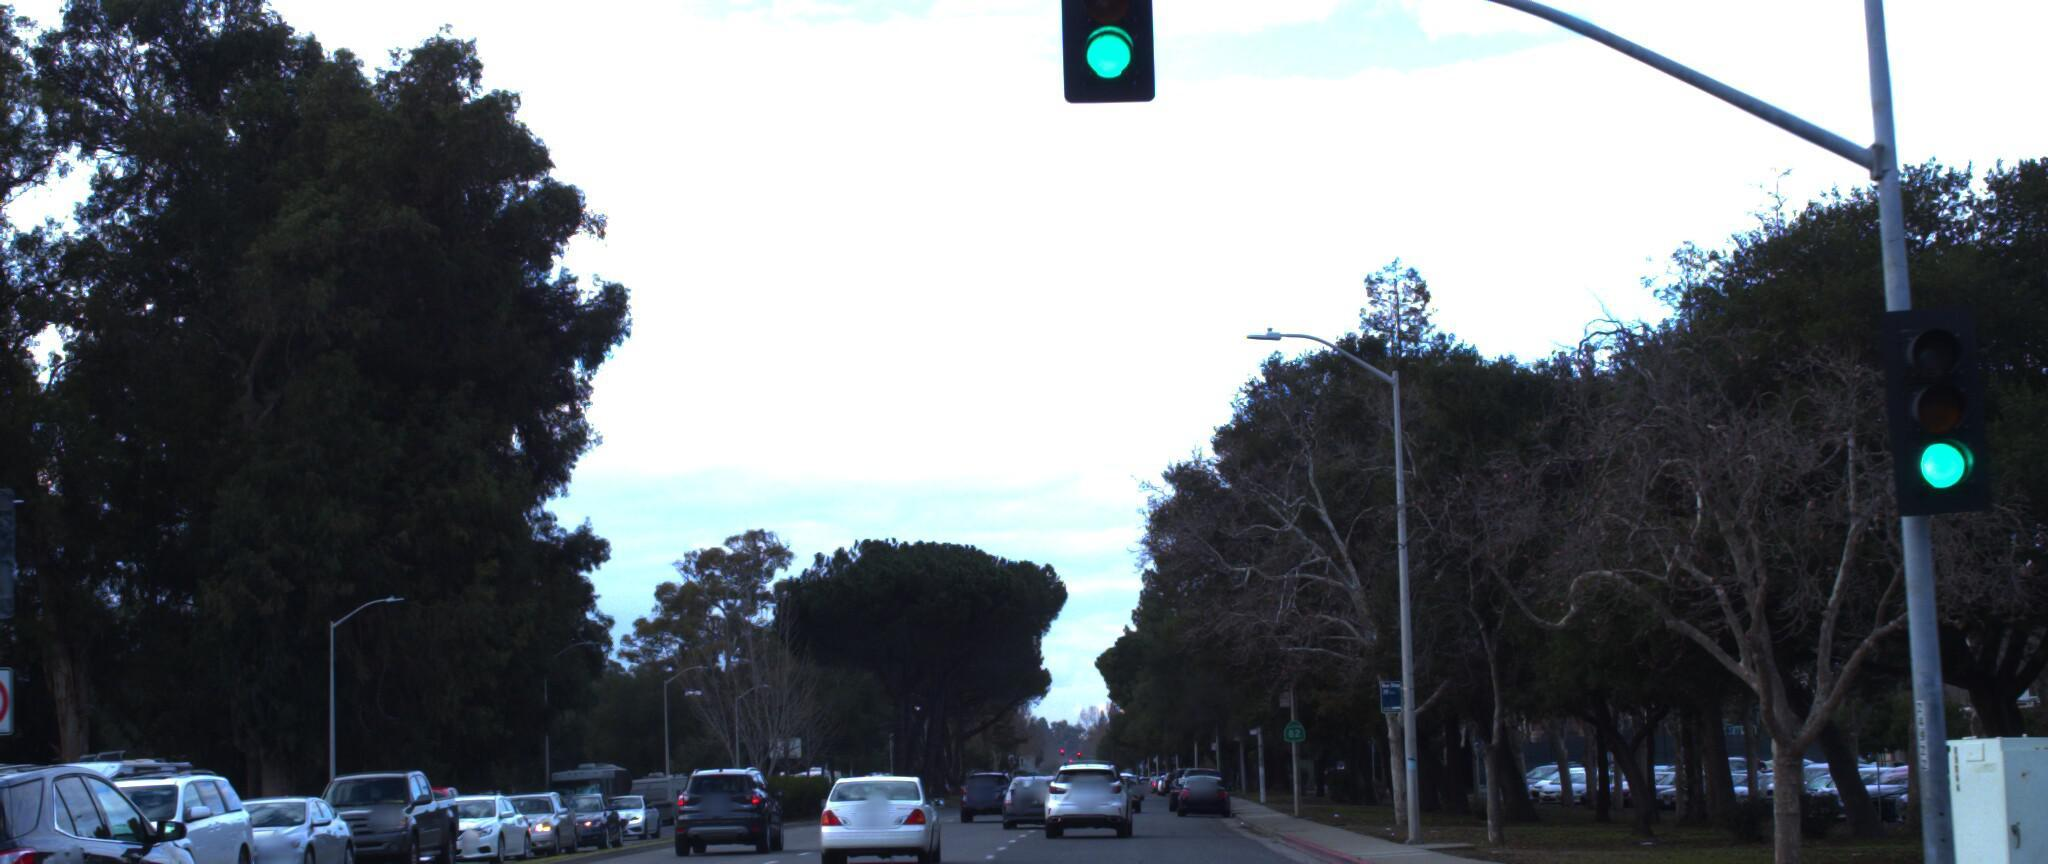car: (12, 753, 268, 864), (0, 756, 249, 864), (282, 752, 470, 864), (175, 777, 367, 864), (816, 737, 947, 857), (667, 747, 786, 844), (400, 774, 539, 856), (468, 775, 584, 850), (1029, 747, 1121, 825), (980, 741, 1055, 810)
other_vehicle: (9, 732, 213, 864)
